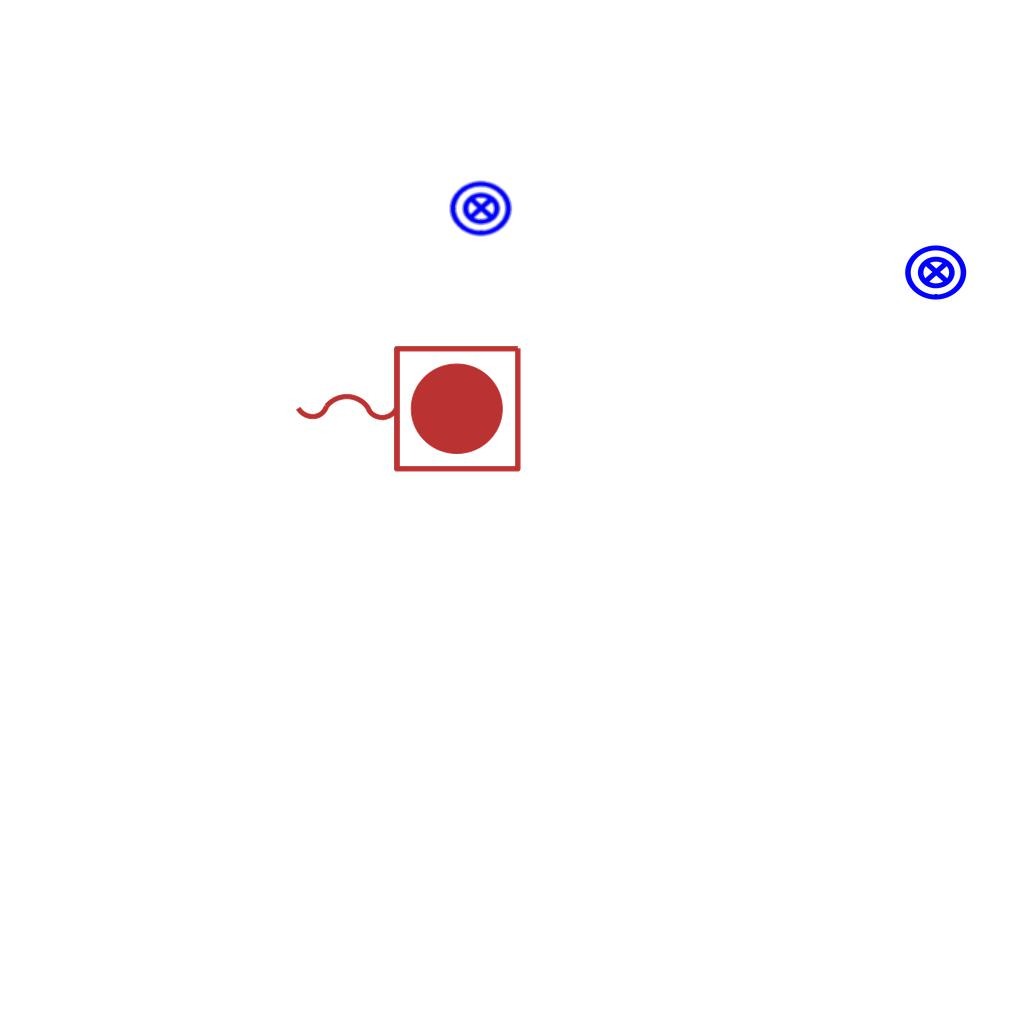Taster_beleuchtet: (903, 239, 969, 305), (448, 175, 514, 241)
Zugtaster: (285, 335, 529, 479)
